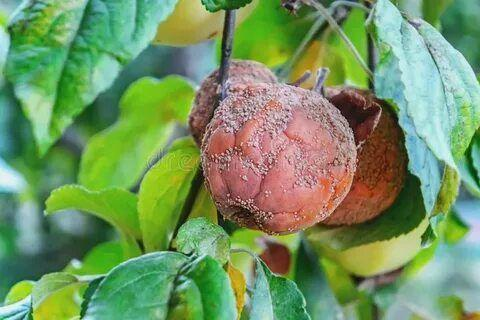Apple: (202, 84, 358, 234)
